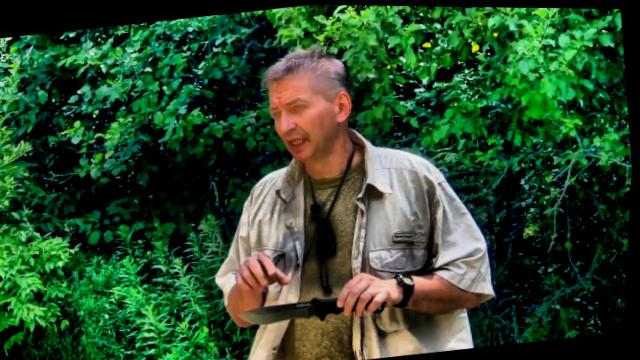knife: (234, 265, 392, 335)
